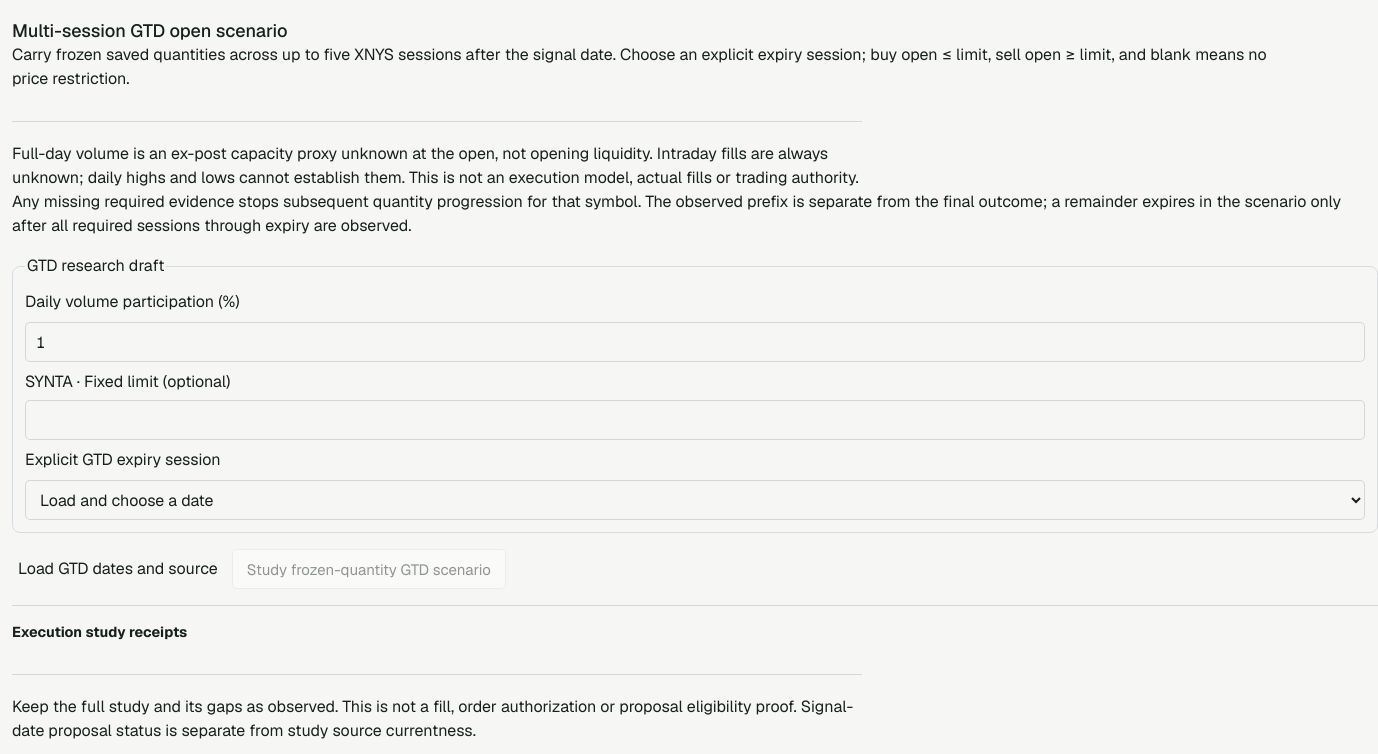
Scenario: multi-session GTD research › accepts an early full scenario with future GTD while explicitly declining expiry verification
The image size is (1378, 754).
Click the button "Load GTD dates and source" at {"x": 118, "y": 569}, box left=12, top=556, right=224, bottom=582
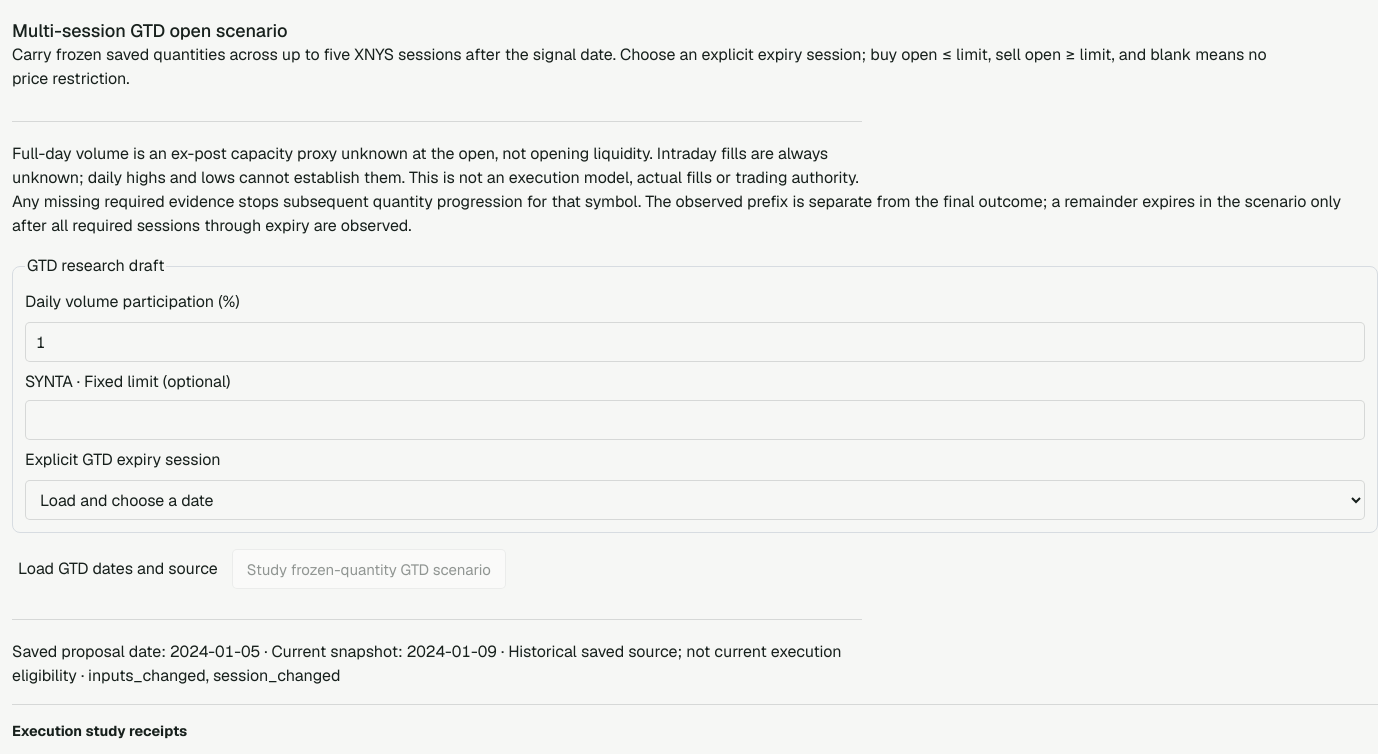
Result: the text "Historical saved source" is shown at left=12, top=641, right=842, bottom=686
Select "2024-01-12 · Not completed" in the dropdown labelled "Explicit GTD expiry session" at {"x": 695, "y": 500}, box left=25, top=480, right=1365, bottom=520
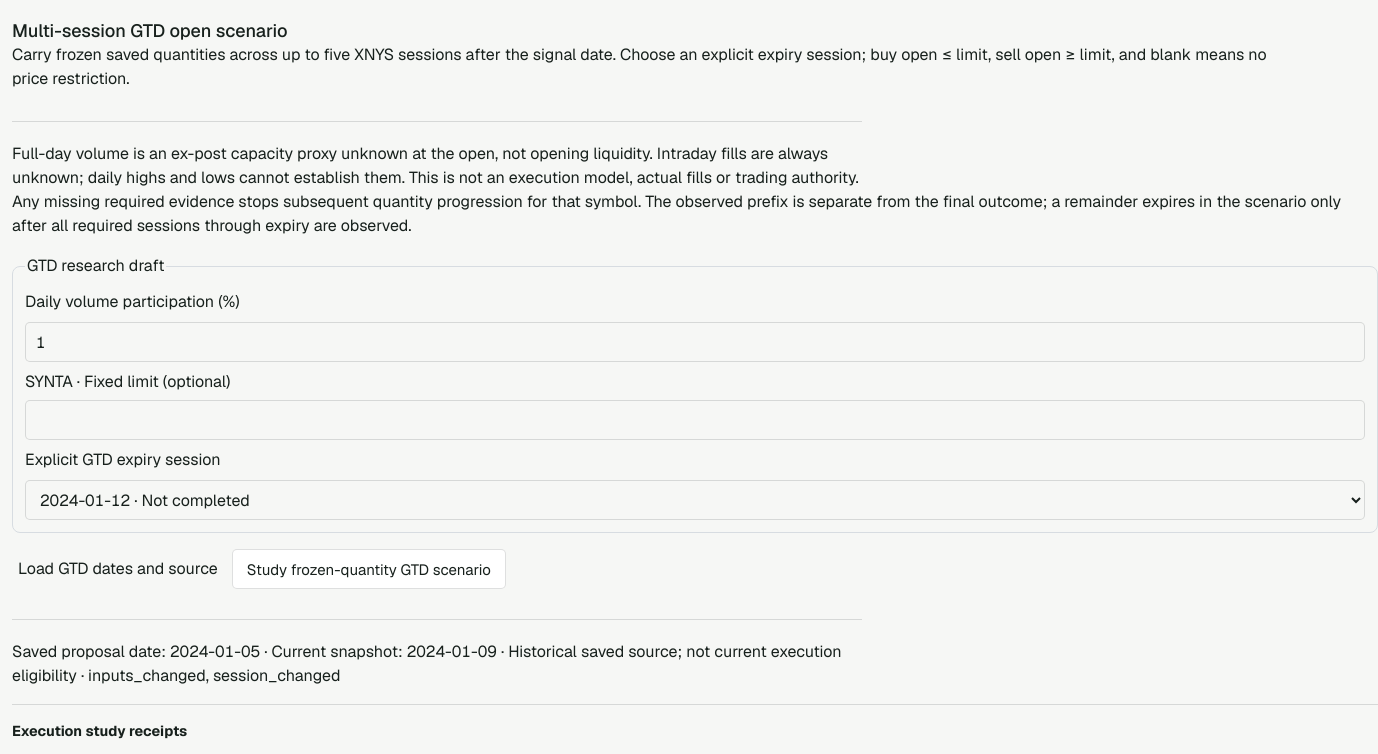
Click the button "Study frozen-quantity GTD scenario" at {"x": 369, "y": 569}, box left=232, top=549, right=506, bottom=589
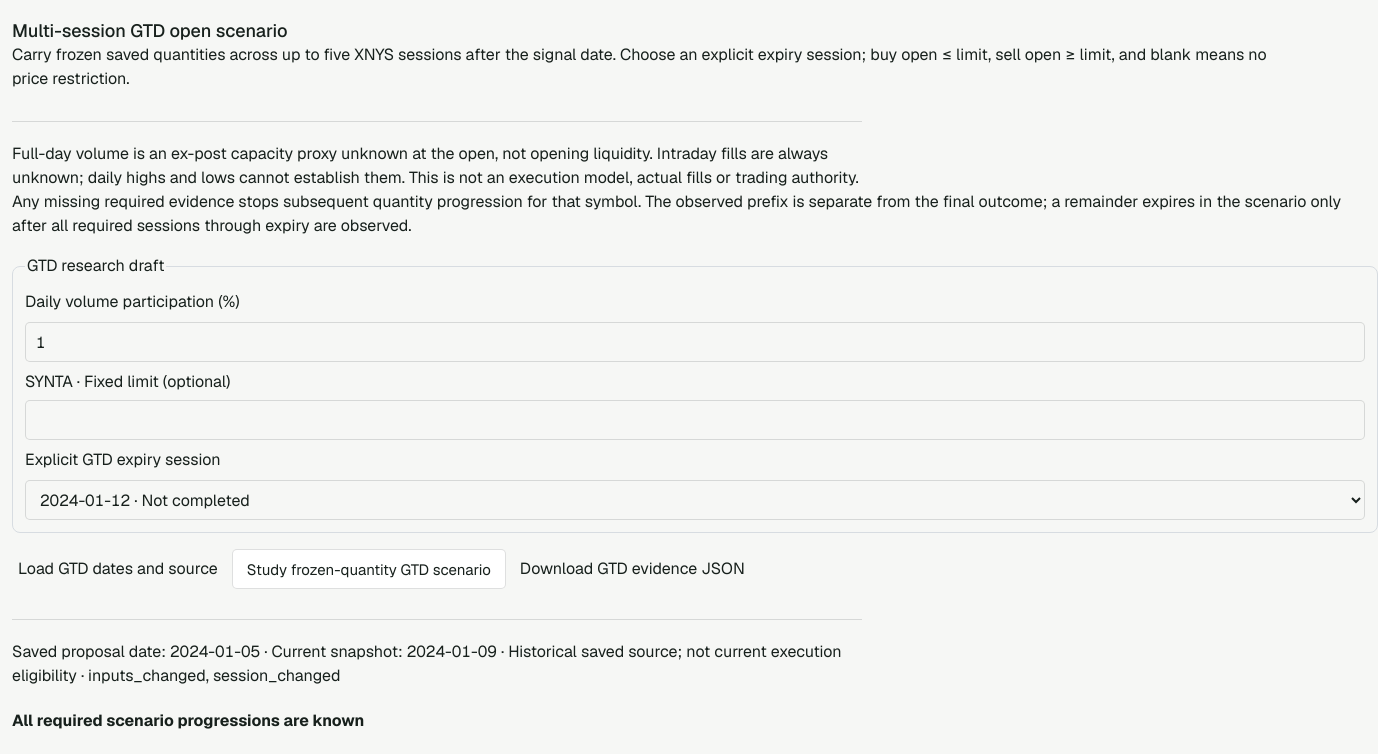
Result: the button "Download GTD evidence JSON" is shown at left=514, top=556, right=751, bottom=582
